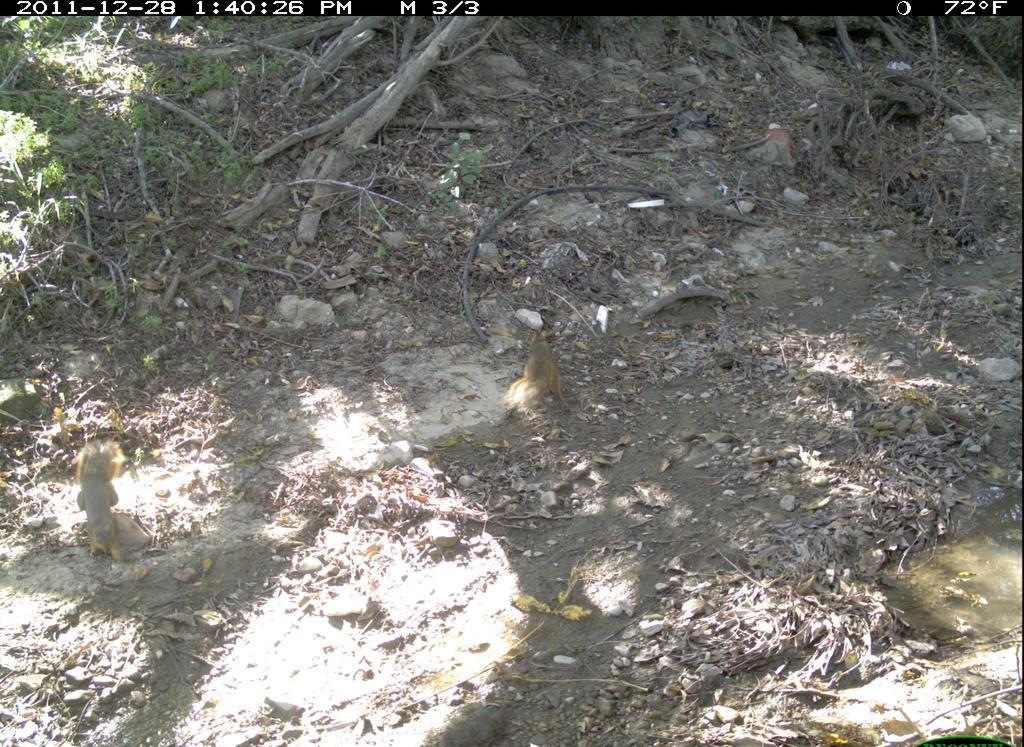squirrel: (52, 437, 158, 571), (496, 329, 578, 418)
